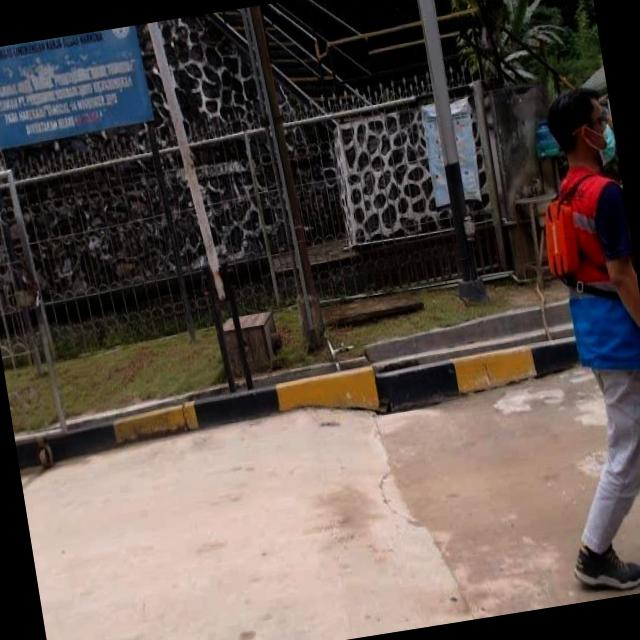vest: (531, 156, 640, 383)
